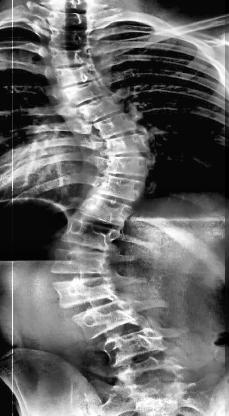Vertebrae: (92, 326, 172, 362), (116, 354, 194, 390), (68, 299, 142, 335), (60, 216, 122, 252), (119, 380, 187, 412), (77, 194, 136, 230), (50, 277, 116, 305), (49, 248, 110, 276), (95, 173, 145, 203), (76, 96, 128, 122), (90, 112, 142, 138), (62, 79, 112, 105), (101, 155, 153, 179), (50, 64, 104, 86), (102, 132, 151, 156), (47, 8, 97, 30), (46, 28, 96, 50), (48, 47, 96, 68)
